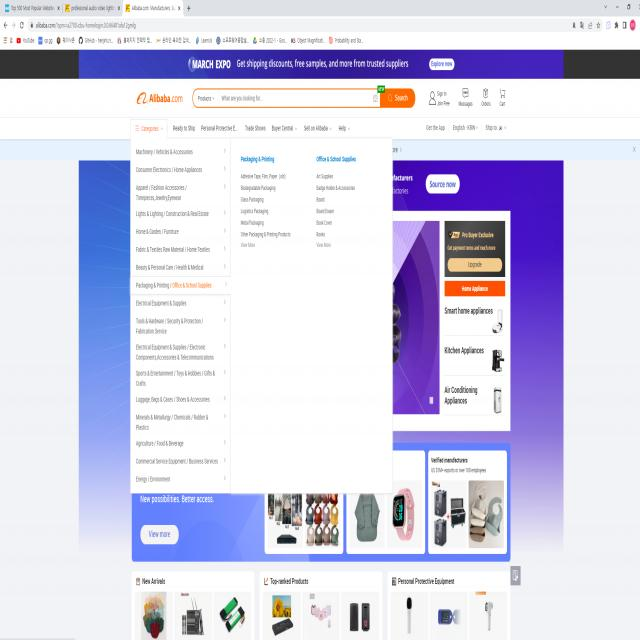menu-bar: (425, 82, 512, 112)
menu-panel: (130, 120, 392, 491)
search: (192, 84, 418, 110)
